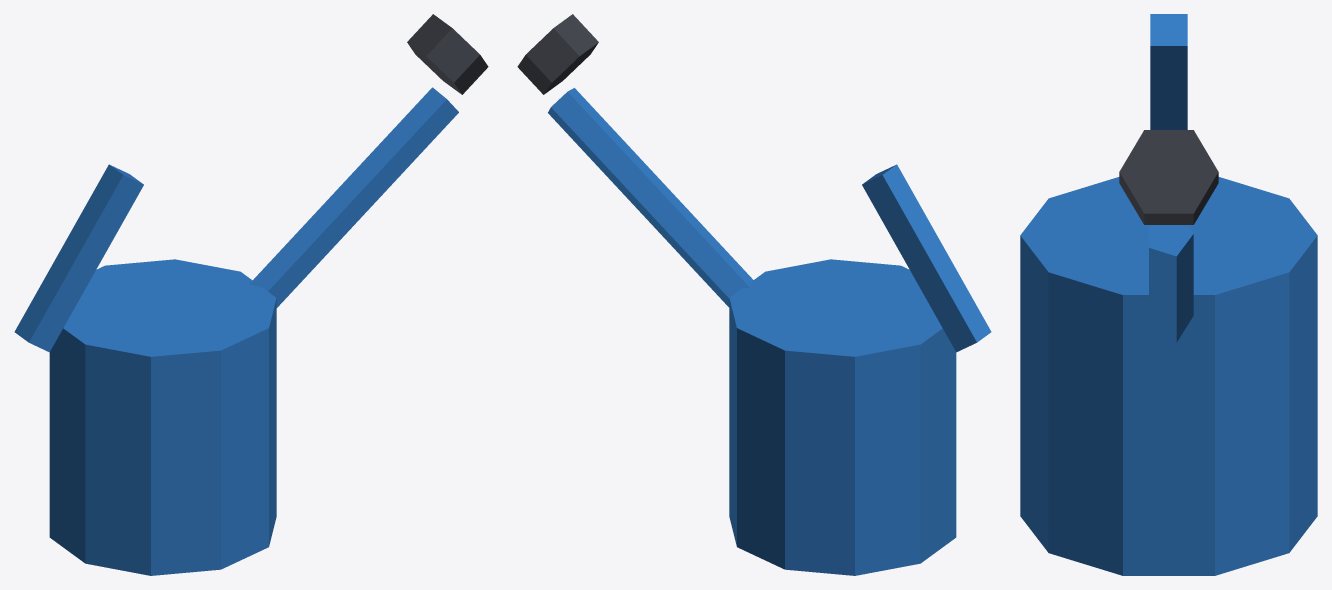
The model's file is garden2_watering_can.glb.
3 renders of one model, left to right at view 1: azimuth 30°, elevation 25°; view 2: azimuth 150°, elevation 25°; view 3: azimuth 270°, elevation 25°, orthographic. The views are drawn at different scales.
Visible parts, largest first — view 1: watering_can; view 2: watering_can; view 3: watering_can.
Boxes of the visible parts, x1,y1,x2,y2 form: watering_can: (14, 14, 488, 575); watering_can: (517, 14, 991, 575); watering_can: (1020, 14, 1317, 575).
Size of the model in its own units: 0.546 by 0.4996 by 0.24.
